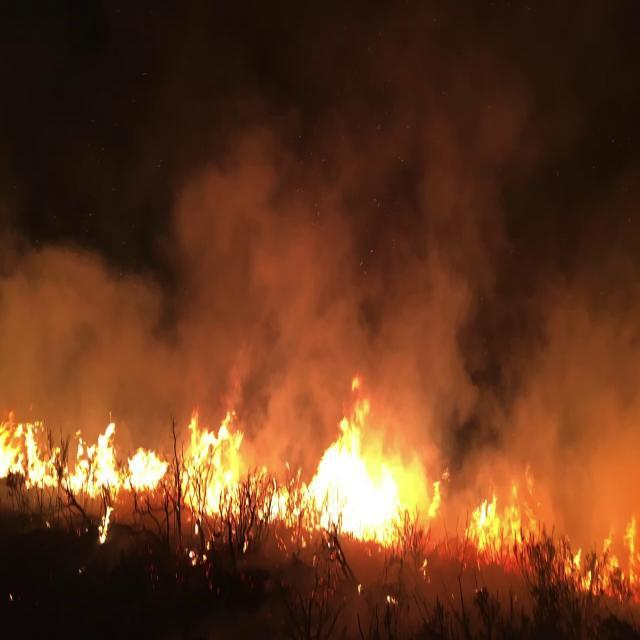Fire: (0, 394, 434, 541), (570, 491, 640, 608), (466, 462, 544, 566)
Smoke: (14, 2, 636, 403)
